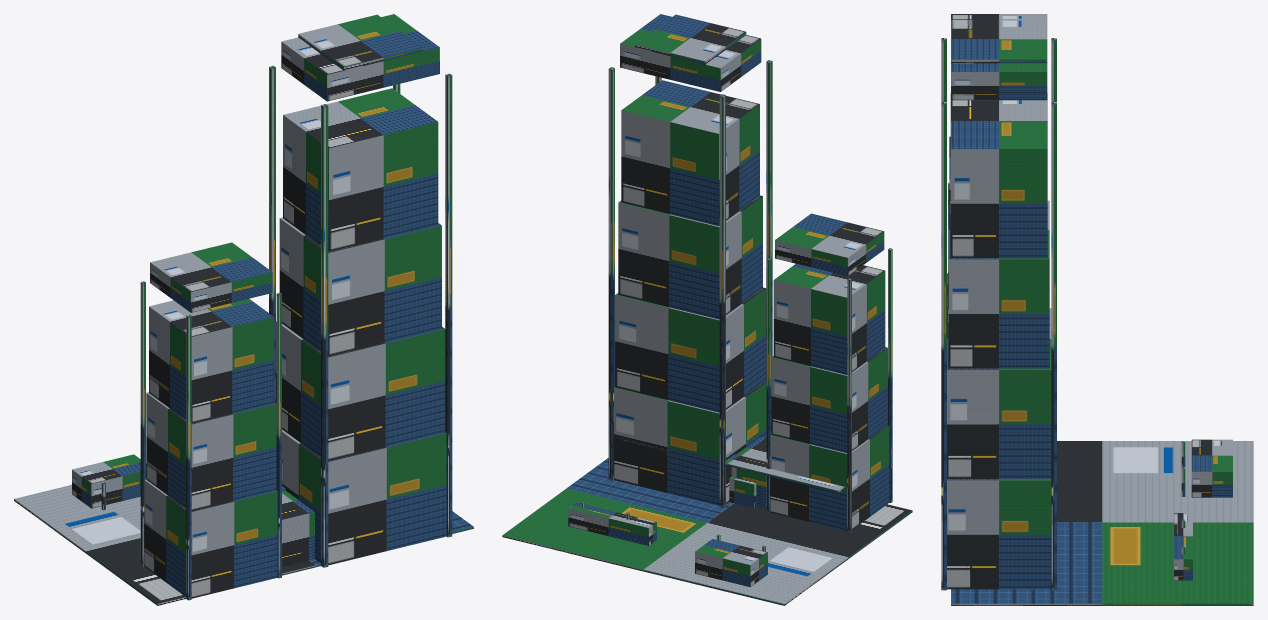
3 renders of one model, left to right at view 1: azimuth 30°, elevation 25°; view 2: azimuth 150°, elevation 25°; view 3: azimuth 270°, elevation 25°, orthographic. The views are drawn at different scales.
Parts seen in each view (by area): view 1: RootNode; view 2: RootNode; view 3: RootNode.
Part boxes in pixels (<box>): RootNode: <box>14,14,473,605</box>; RootNode: <box>502,14,912,605</box>; RootNode: <box>941,14,1253,605</box>.
Size of the model in its own units: 56 by 83.45 by 45.4.
Materials: 4 (4 with a texture image).
